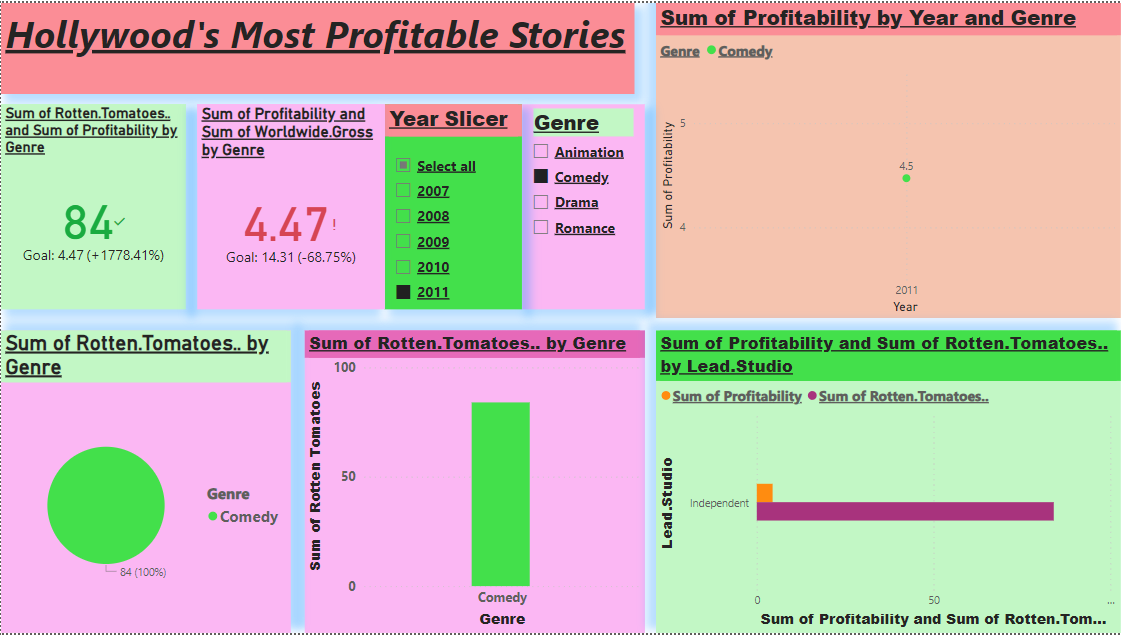

What the dashboard file says about the page in this screenshot:
{"tool":"powerbi","page":{"name":"Hollywoods Most Profitable Stories","canvas":[1280,720],"ordinal":0},"visuals":[{"type":"clusteredColumnChart","fields":{"Category":["clean_df.Genre"],"Y":["Sum(clean_df.Rotten.Tomatoes..)"]},"box":[347.1,374.3,388.6,345.7],"z":0},{"type":"lineChart","fields":{"Category":["clean_df.Year"],"Y":["Sum(clean_df.Profitability)"],"Series":["clean_df.Genre"]},"box":[748.6,0,531.4,360],"z":1},{"type":"textbox","box":[0,0,724.3,104.3],"z":2},{"type":"pieChart","fields":{"Series":["clean_df.Genre"],"Y":["Sum(clean_df.Rotten.Tomatoes..)"]},"box":[0,374.3,331.4,345.7],"z":3},{"type":"slicer","fields":{"Values":["clean_df.Genre"]},"box":[595.7,115.7,140,234.3],"z":4},{"type":"slicer","title":"Year Slicer","fields":{"Values":["clean_df.Year"]},"box":[438.6,115.7,157.1,234.3],"z":5},{"type":"kpi","fields":{"Indicator":["Sum(clean_df.Rotten.Tomatoes..)"],"Goal":["Sum(clean_df.Profitability)"],"TrendLine":["clean_df.Genre"]},"box":[0,115.7,211.4,234.3],"z":6},{"type":"kpi","fields":{"TrendLine":["clean_df.Genre"],"Indicator":["Sum(clean_df.Profitability)"],"Goal":["Sum(clean_df.Worldwide.Gross)"]},"box":[224.3,115.7,214.3,234.3],"z":7},{"type":"clusteredBarChart","fields":{"Category":["clean_df.Lead.Studio"],"Y":["Sum(clean_df.Profitability)","Sum(clean_df.Rotten.Tomatoes..)"]},"box":[748.6,374.3,531.4,345.7],"z":8}]}

Visuals, with their boxes in screenshot pixels (x1, y1, x2, y2), scaled from the page's 1280x720 canvas onto the 1121x636 screenshot:
clusteredColumnChart - clean_df.Genre x Sum(clean_df.Rotten.Tomatoes..): <region>304, 331, 644, 635</region>
lineChart - clean_df.Year x Sum(clean_df.Profitability): <region>656, 0, 1120, 318</region>
textbox: <region>0, 0, 634, 92</region>
pieChart - clean_df.Genre x Sum(clean_df.Rotten.Tomatoes..): <region>0, 331, 290, 635</region>
slicer - clean_df.Genre: <region>522, 102, 644, 309</region>
"Year Slicer" slicer: <region>384, 102, 522, 309</region>
kpi - Sum(clean_df.Rotten.Tomatoes..) x Sum(clean_df.Profitability): <region>0, 102, 185, 309</region>
kpi - clean_df.Genre x Sum(clean_df.Profitability): <region>196, 102, 384, 309</region>
clusteredBarChart - clean_df.Lead.Studio x Sum(clean_df.Profitability): <region>656, 331, 1120, 635</region>
